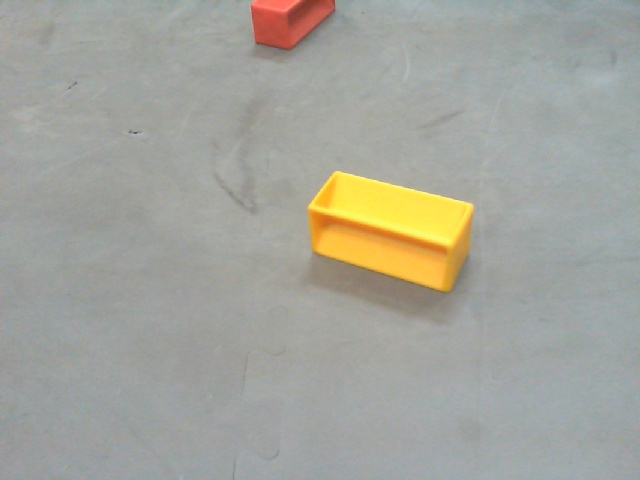RedSample: (248, 1, 335, 53)
YellowSample: (304, 169, 475, 298)
